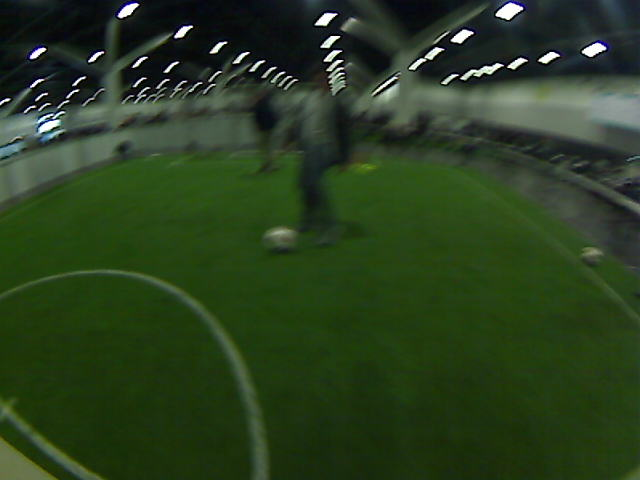ball: (265, 224, 296, 252), (580, 244, 604, 269)
goalpost: (215, 108, 234, 155)
robot: (255, 1, 295, 2)
